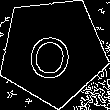O_N: (27, 22, 79, 81)
